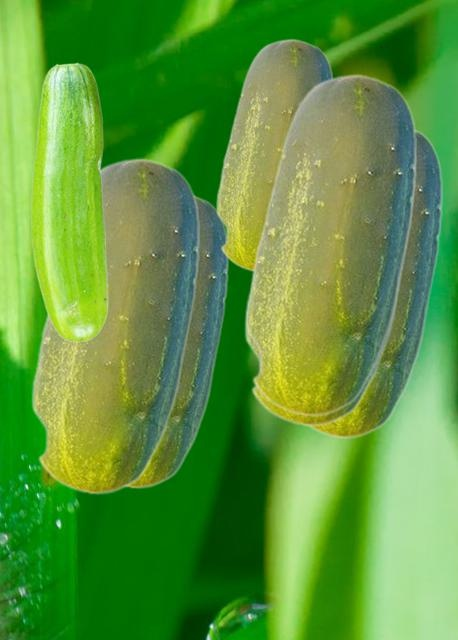cucumber: (244, 73, 415, 416), (30, 157, 198, 494), (307, 128, 441, 438), (243, 201, 414, 426), (127, 193, 227, 488), (215, 38, 332, 271), (31, 62, 107, 341)
